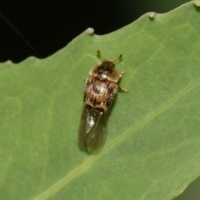insect: (79, 50, 127, 151)
